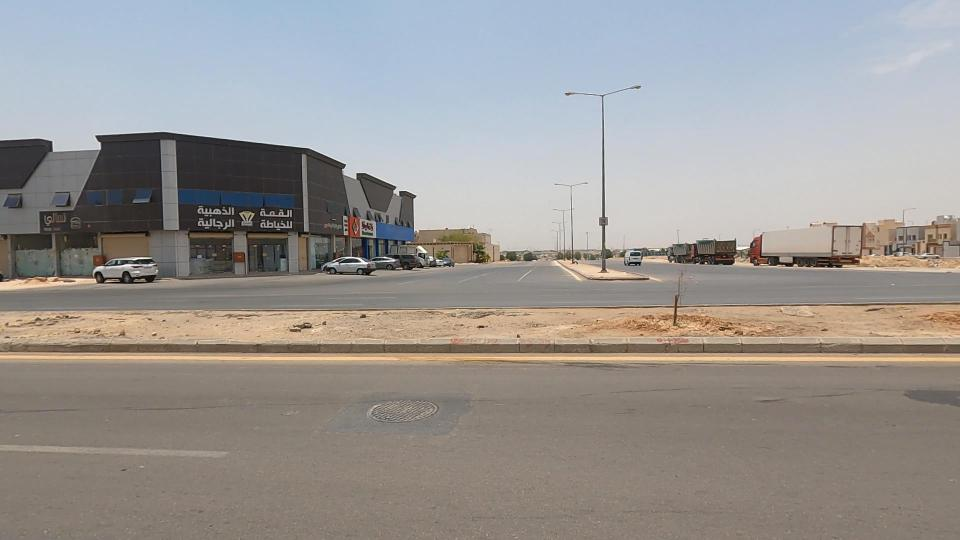CLUTTER_SIDEWALK: (615, 260, 960, 394), (306, 265, 648, 393), (38, 276, 407, 385)
